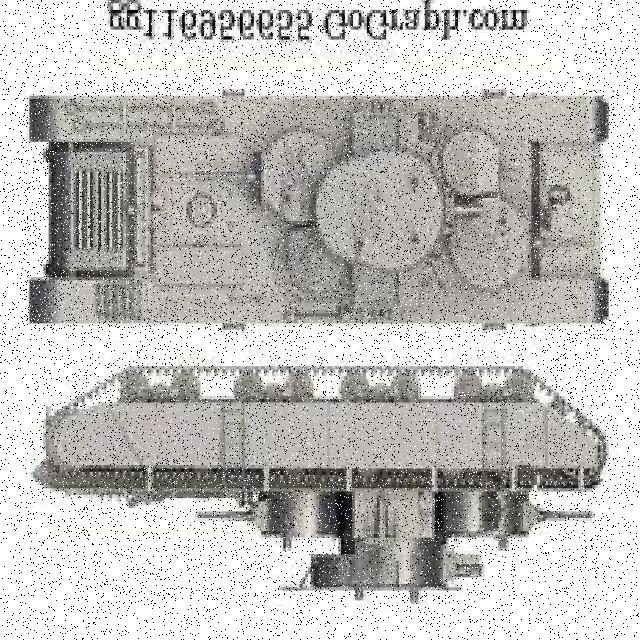MIL_MBT: (19, 81, 614, 338), (35, 365, 610, 602)
